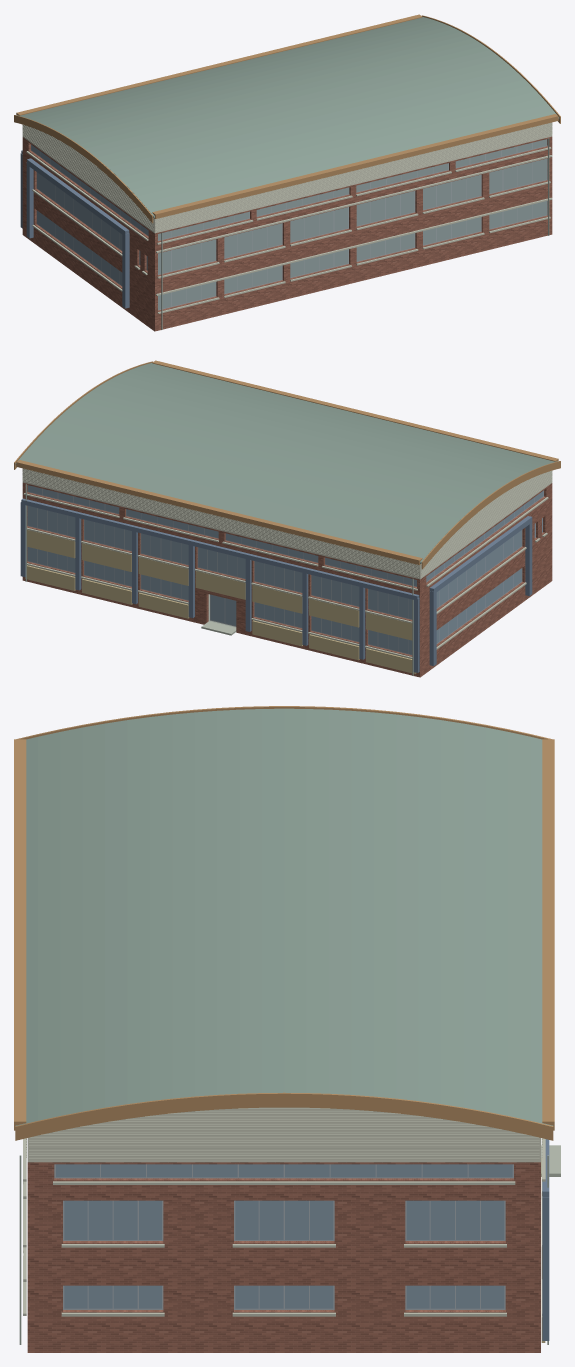
The picture shows the model from 3 angles, top to bottom: view 1: azimuth 30°, elevation 25°; view 2: azimuth 150°, elevation 25°; view 3: azimuth 270°, elevation 25°; orthographic projection. The views are drawn at different scales.
Visible parts, largest first — view 1: gym__roof, gym__redBrick, gym__rearGlass, gym__metalWhite, gym__corrugation, gym__ochreFascia, gym__trim, gym__glass, gym__frame, gym__purpleFrame; view 2: gym__roof, gym__glass, gym__redBrick, gym__tanPanel, gym__purpleFrame, gym__metalWhite, gym__corrugation, gym__ochreFascia, gym__trim, gym__frame; view 3: gym__roof, gym__redBrick, gym__glass, gym__metalWhite, gym__ochreFascia, gym__corrugation, gym__trim, gym__frame, gym__purpleFrame.
Part boxes in pixels (x1,y1,x2,y2): gym__roof: (16,17,559,217); gym__redBrick: (22,136,552,331); gym__rearGlass: (158,139,547,309); gym__metalWhite: (22,122,552,233); gym__corrugation: (22,122,552,231); gym__ochreFascia: (14,14,560,223); gym__trim: (26,147,552,313); gym__glass: (31,145,148,285); gym__frame: (31,142,547,310); gym__purpleFrame: (20,150,129,308); gym__roof: (15,363,558,563); gym__glass: (27,485,543,654); gym__redBrick: (22,482,552,677); gym__tanPanel: (25,530,416,673); gym__purpleFrame: (20,498,532,672); gym__metalWhite: (22,468,552,579); gym__corrugation: (22,468,552,577); gym__ochreFascia: (14,360,560,569); gym__trim: (23,493,548,658); gym__frame: (27,488,543,655); gym__roof: (15,708,552,1125); gym__redBrick: (27,1162,540,1352); gym__glass: (56,1164,512,1308); gym__metalWhite: (27,1107,540,1162); gym__ochreFascia: (14,706,554,1140); gym__corrugation: (26,1108,542,1159); gym__trim: (23,1138,545,1316); gym__frame: (54,1164,513,1309); gym__purpleFrame: (542,1139,549,1340).
Size of the model in its own units: 41.12 by 13.12 by 24.51.
14 materials, 1 textured.
